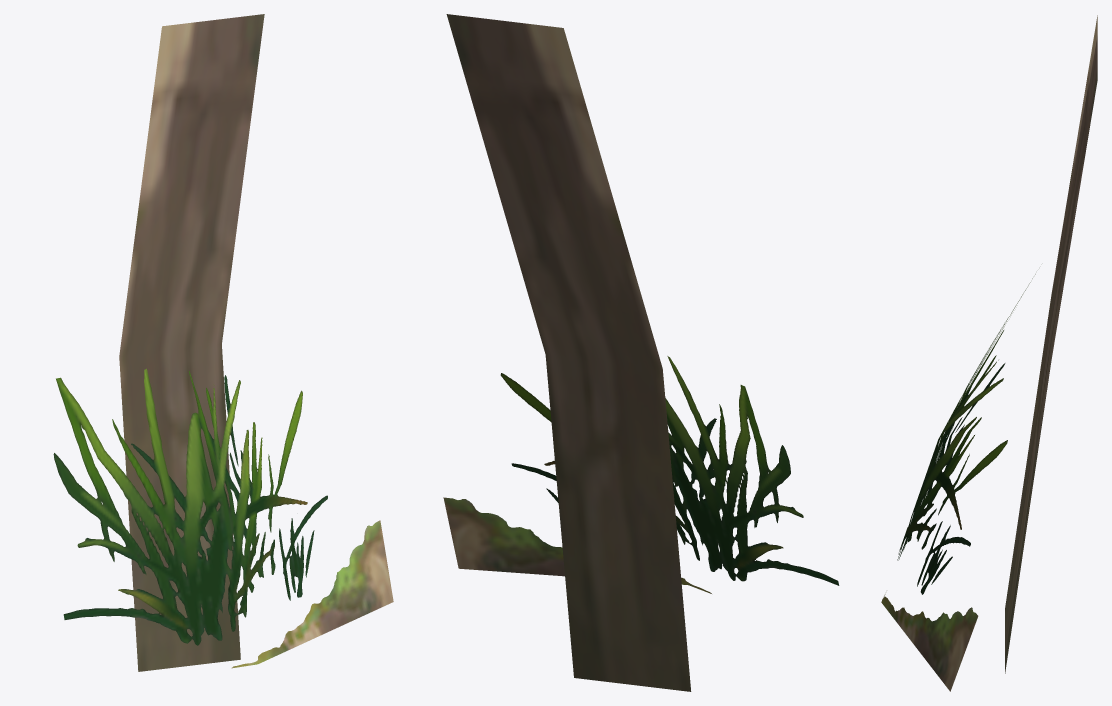
Rendered from 2_Loading_LvCao_03.FBX.
3 renders of one model, left to right at view 1: azimuth 30°, elevation 25°; view 2: azimuth 150°, elevation 25°; view 3: azimuth 270°, elevation 25°, orthographic. The views are drawn at different scales.
Visible parts, largest first — view 1: 2_Loading_LvCao_04, 2_Loading_LvCao_03; view 2: 2_Loading_LvCao_04, 2_Loading_LvCao_03; view 3: 2_Loading_LvCao_03, 2_Loading_LvCao_04.
Part boxes in pixels (x1=…): 2_Loading_LvCao_04: x1=119, y1=14, x2=264, y2=671; 2_Loading_LvCao_03: x1=53, y1=368, x2=393, y2=668; 2_Loading_LvCao_04: x1=446, y1=14, x2=691, y2=691; 2_Loading_LvCao_03: x1=443, y1=356, x2=839, y2=593; 2_Loading_LvCao_03: x1=881, y1=274, x2=1035, y2=691; 2_Loading_LvCao_04: x1=1005, y1=15, x2=1097, y2=673.
Size of the model in its own units: 122 by 215 by 65.51.
1 material, 1 textured.
